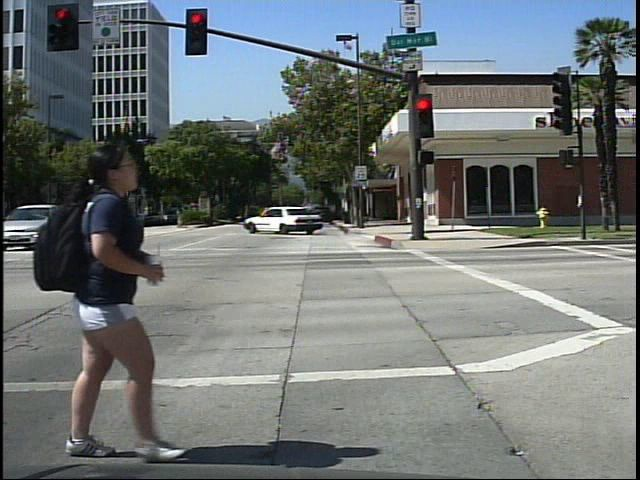person: (36, 129, 181, 467)
